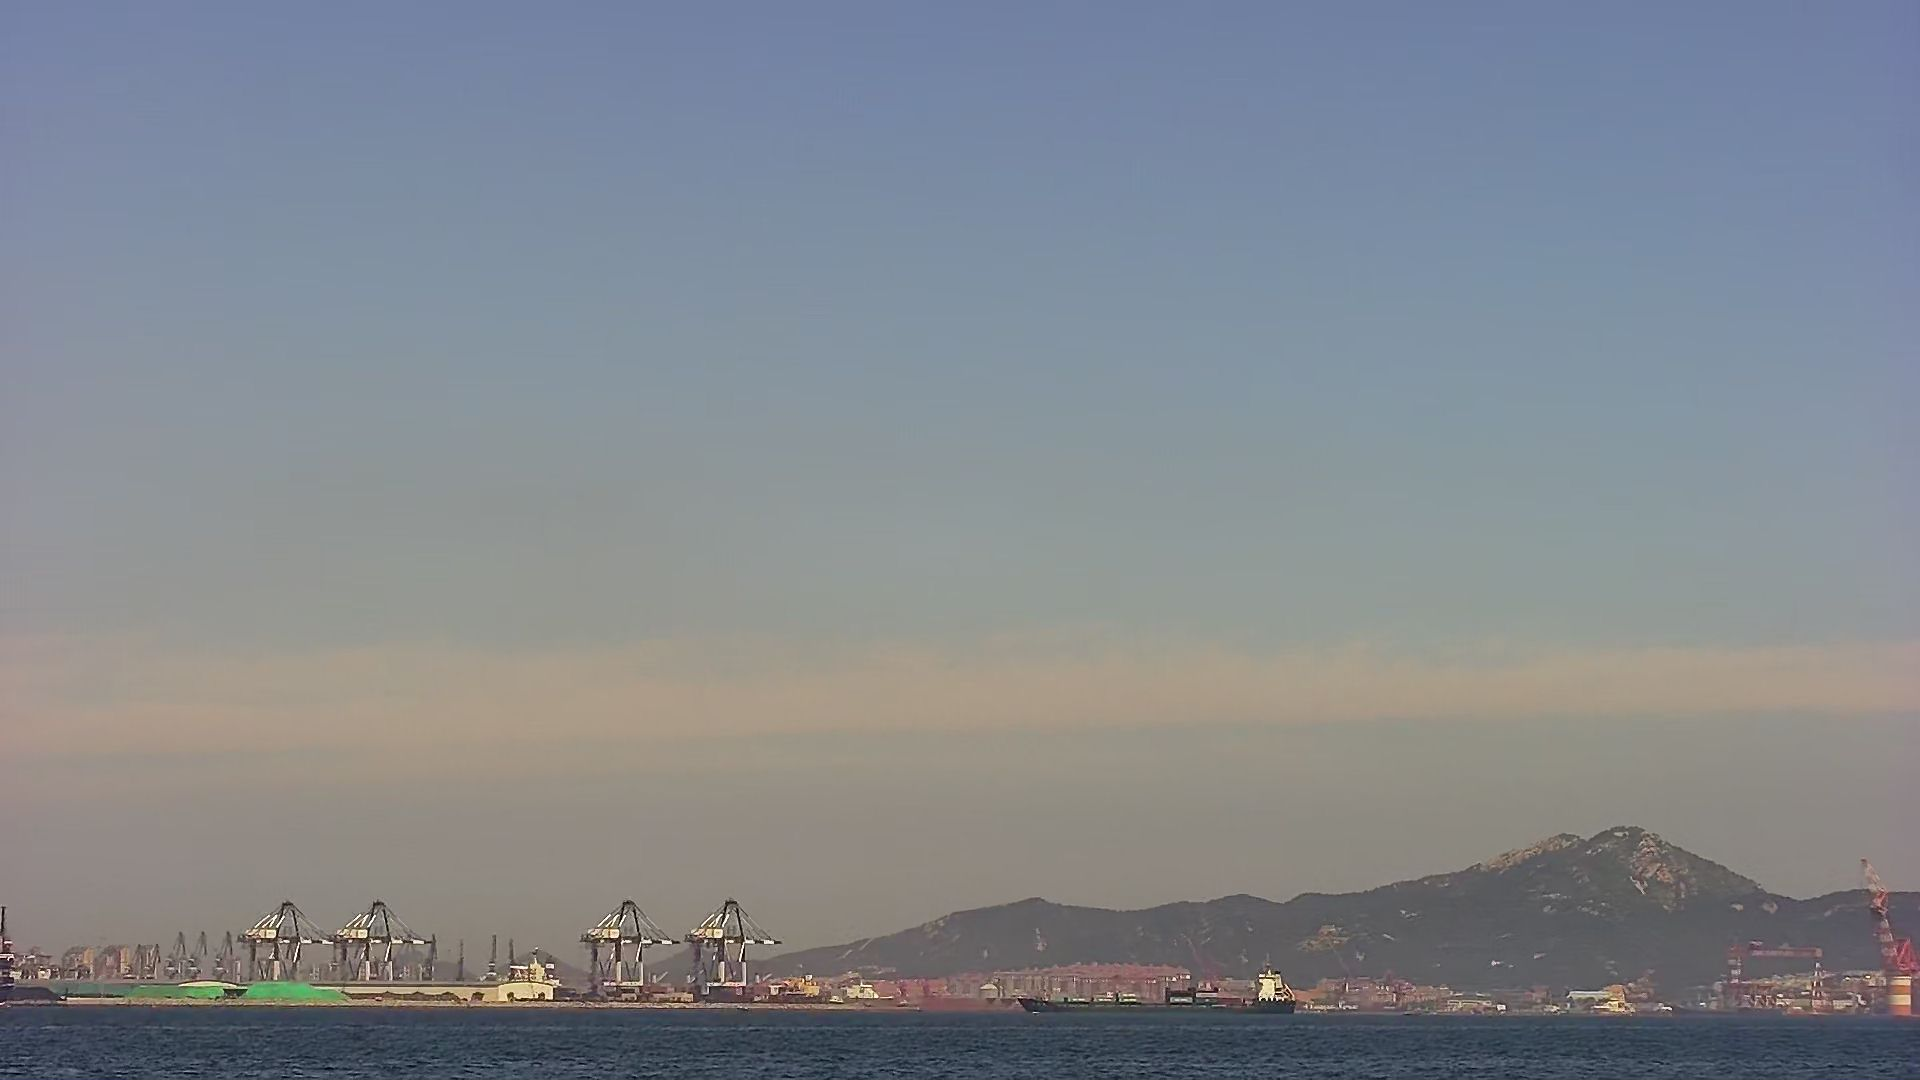ship: (1017, 960, 1304, 1015)
